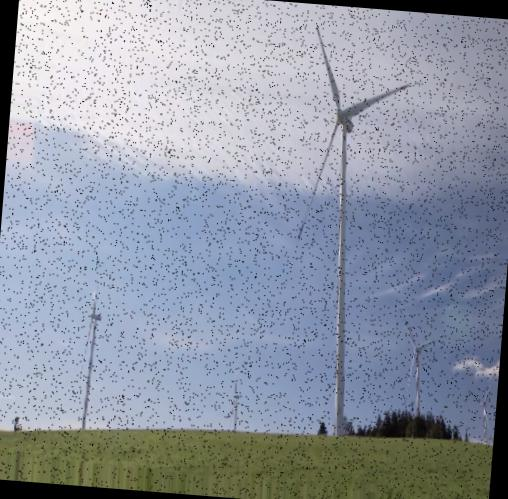wind turbine: (302, 24, 415, 433), (398, 318, 438, 418)
